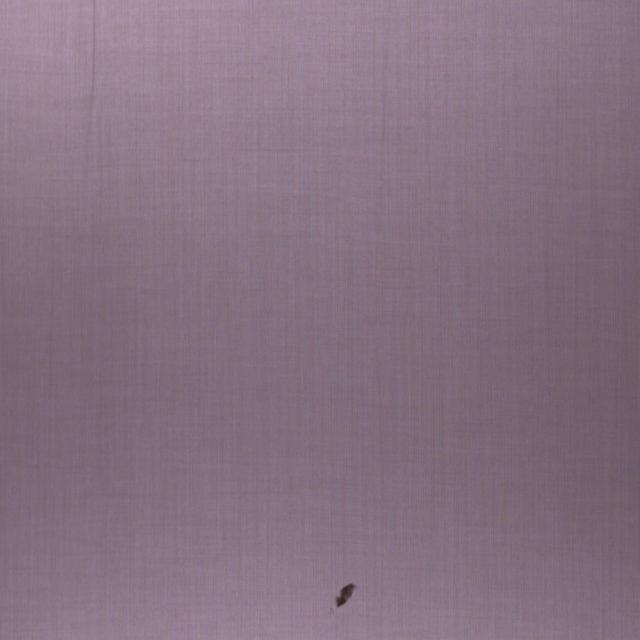dirty: (336, 582, 356, 608)
